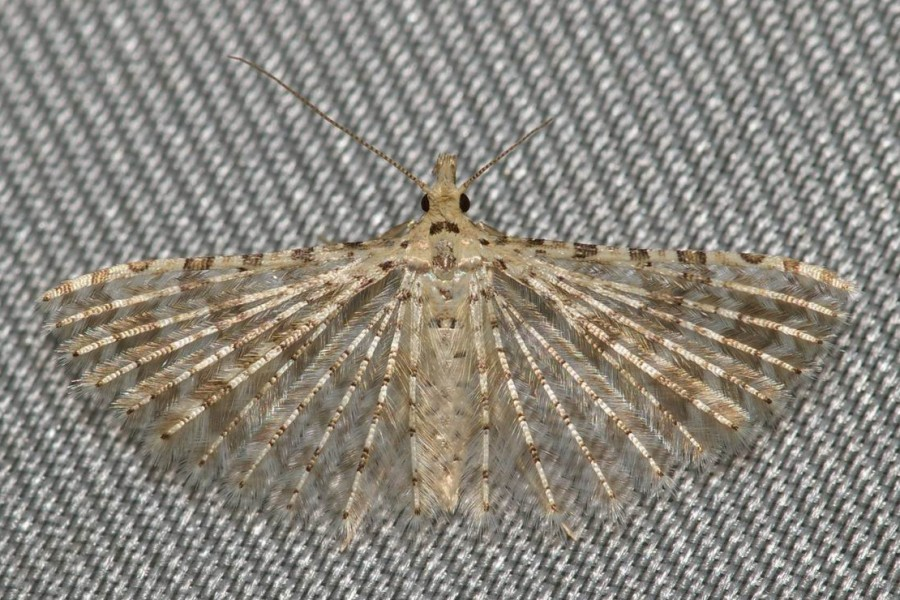Alucitidae: (48, 44, 855, 556)
moth: (46, 42, 853, 554)
